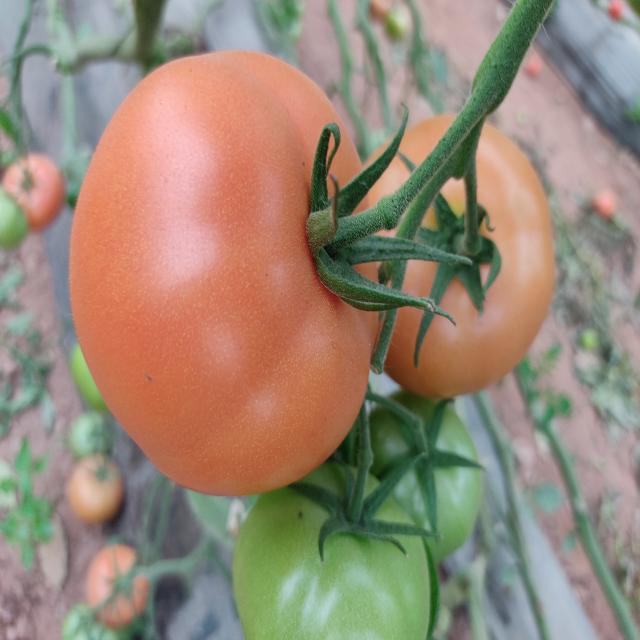Ripe Tomato: (68, 50, 382, 491), (354, 113, 557, 396)
Unripe Tomato: (233, 465, 432, 640), (359, 400, 486, 556)
